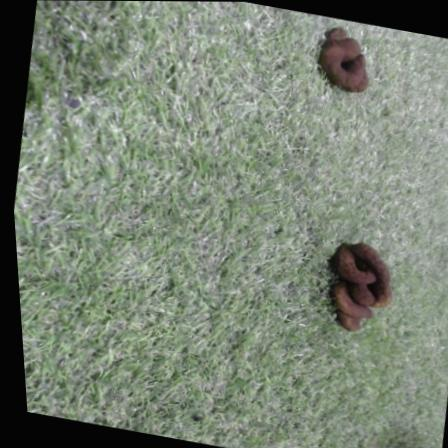dog-poop: (319, 241, 399, 342), (307, 24, 388, 101)
